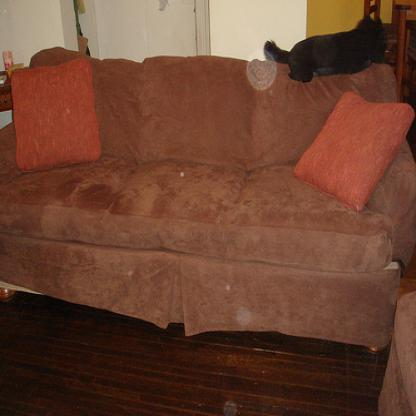cat: (264, 10, 389, 82)
sofa: (0, 42, 415, 351)
